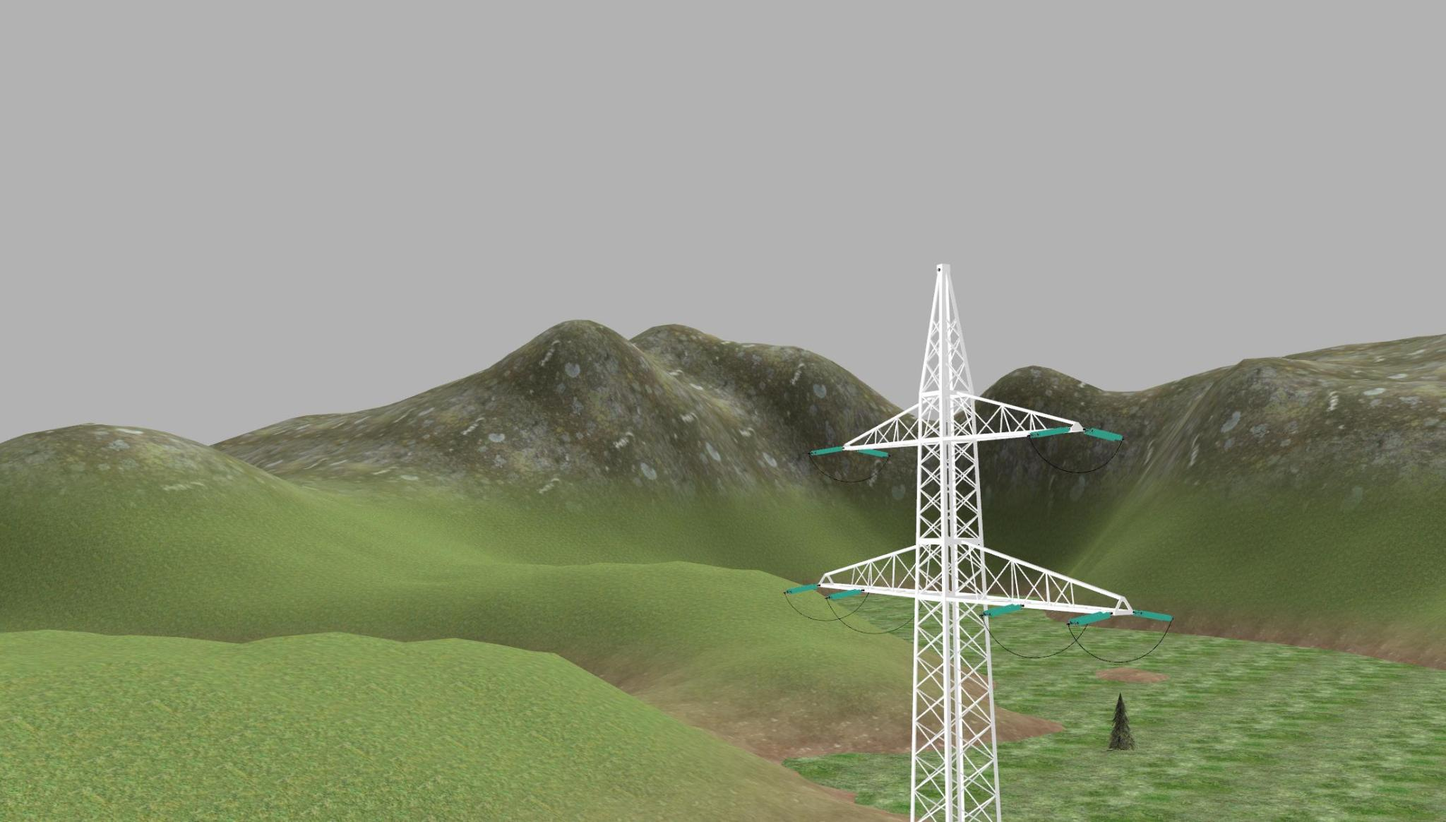tower: (820, 261, 1133, 822)
